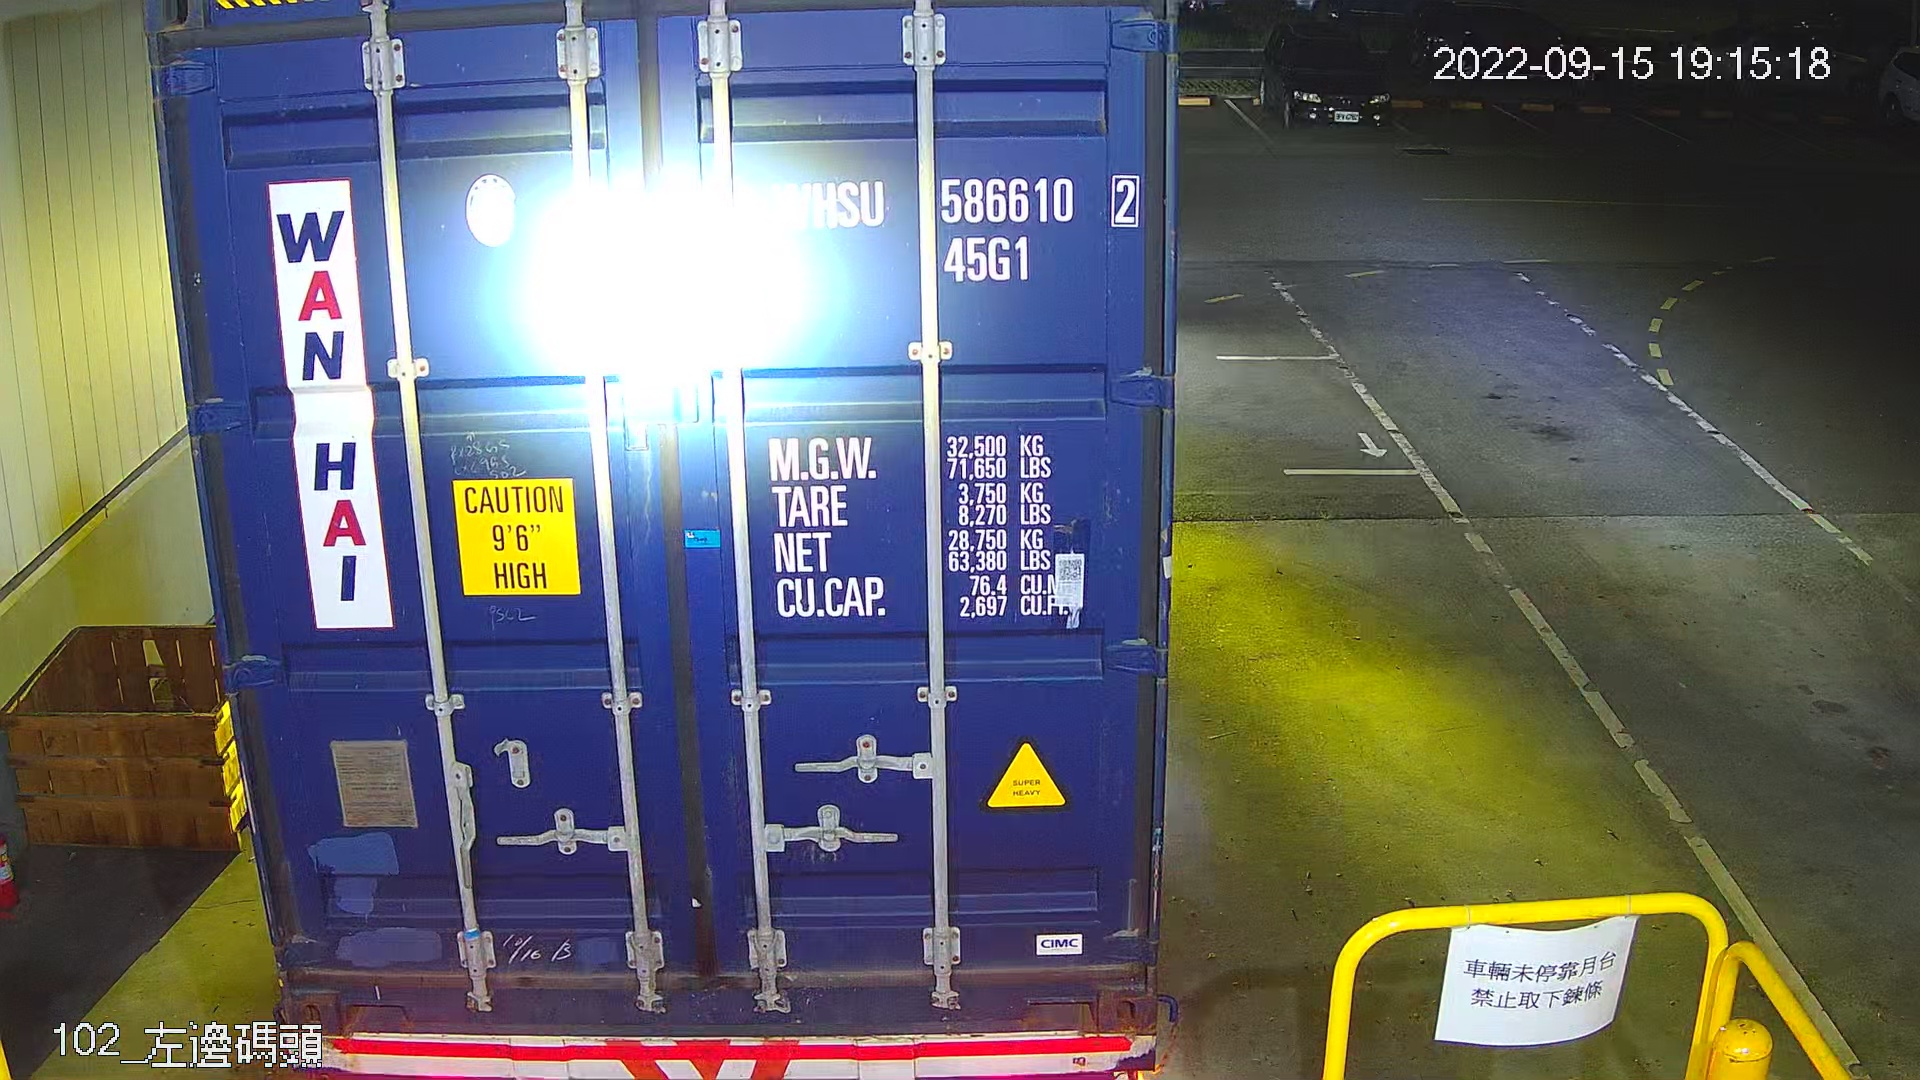container: (745, 167, 1154, 302)
